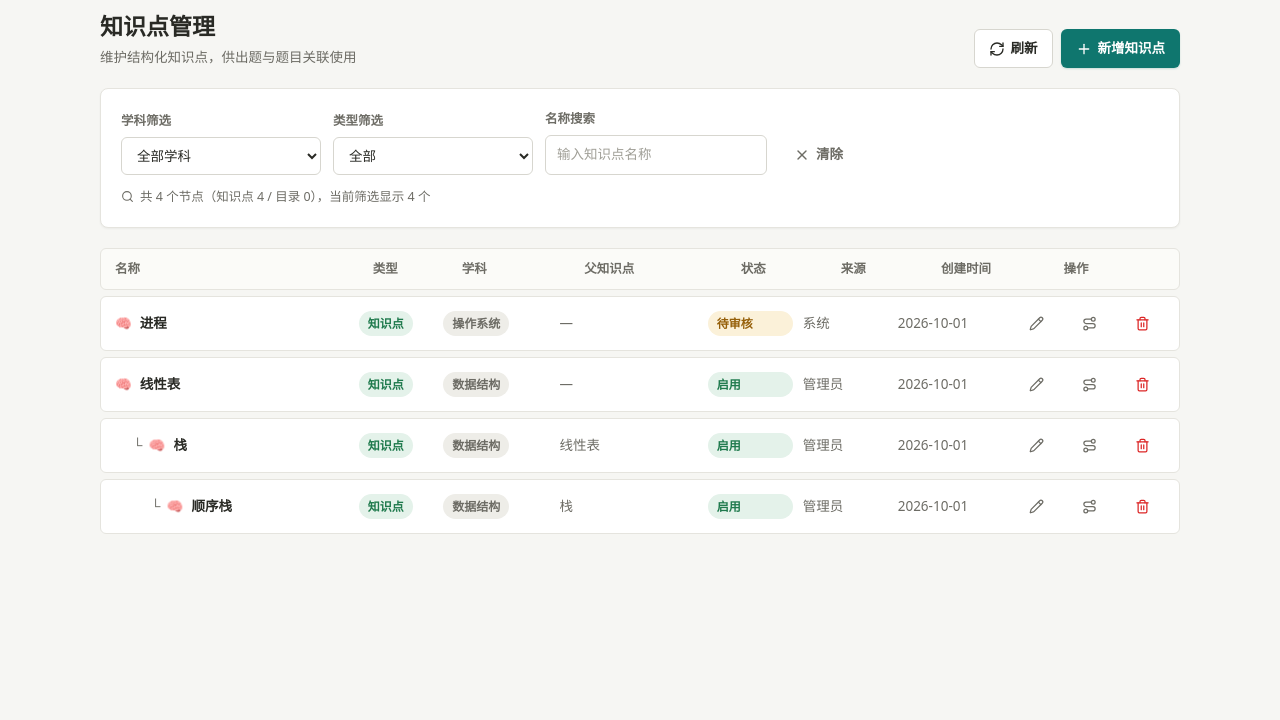
Test case: AdminKnowledgePointsView › 学科变更后清空跨学科父级
Click the 3rd button titled "编辑" at (1036, 445), box [1014,429,1059,462]
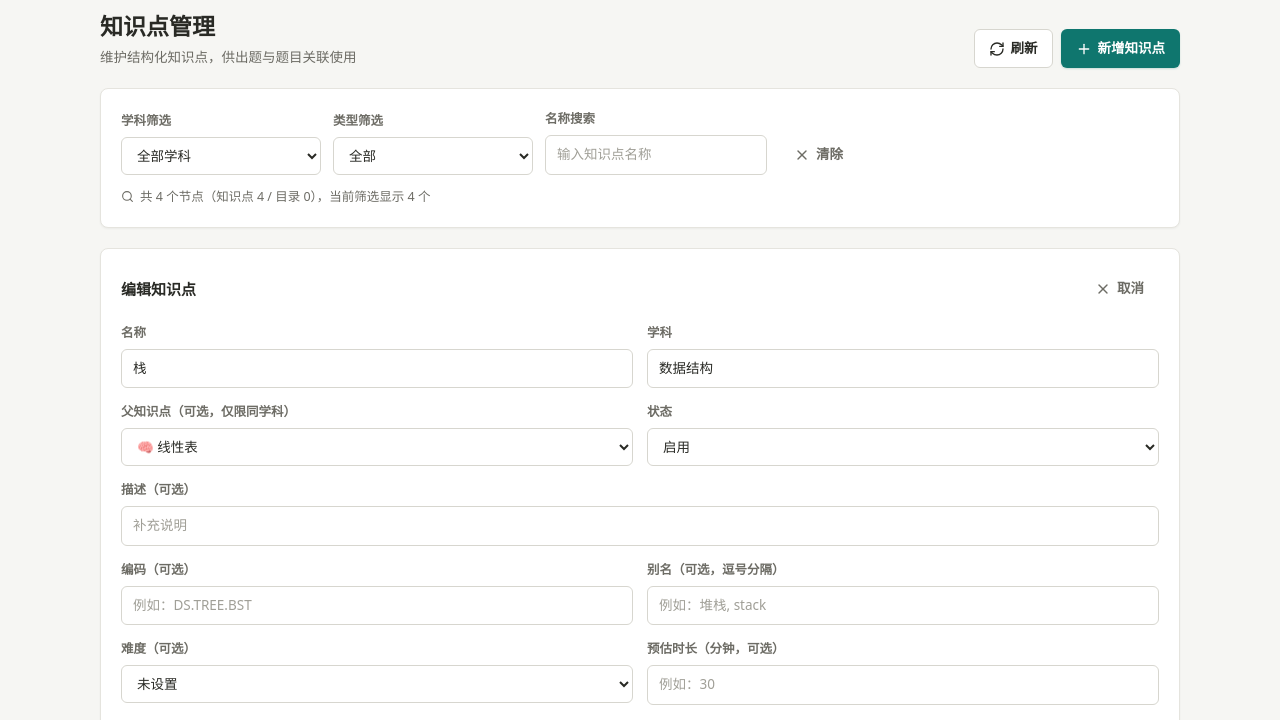
expect the dropdown below "父知识点（可选，仅限同学科）" shows "🧠 线性表": met, box [121,428,633,466]
Replace the text in the 3rd field with "操作系统" at (903, 368), box [647,348,1159,388]
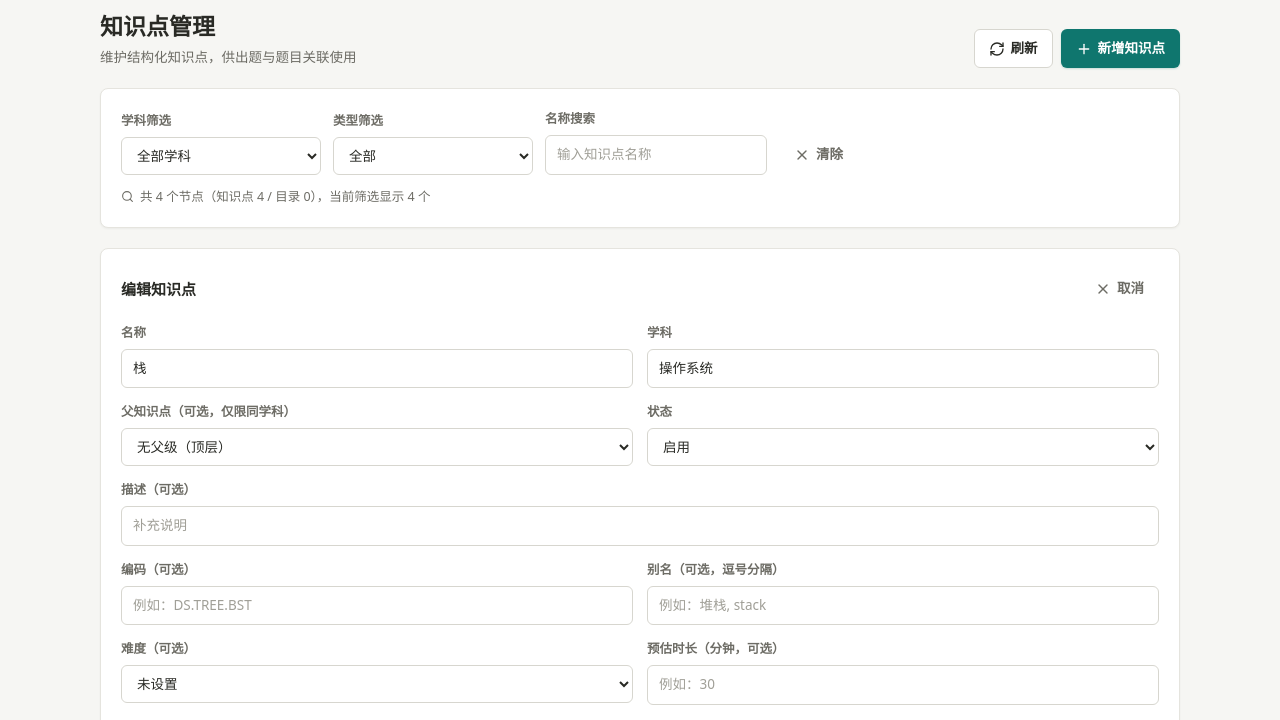
expect the dropdown below "父知识点（可选，仅限同学科）" shows "无父级（顶层）": met, box [121,428,633,466]
